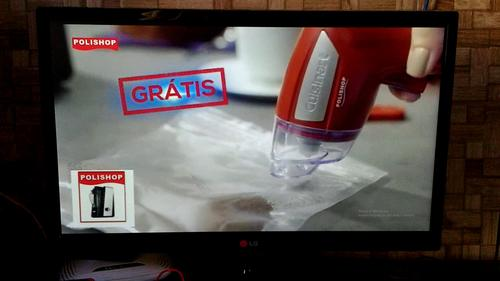Polishop #1: (69, 169, 135, 225)
